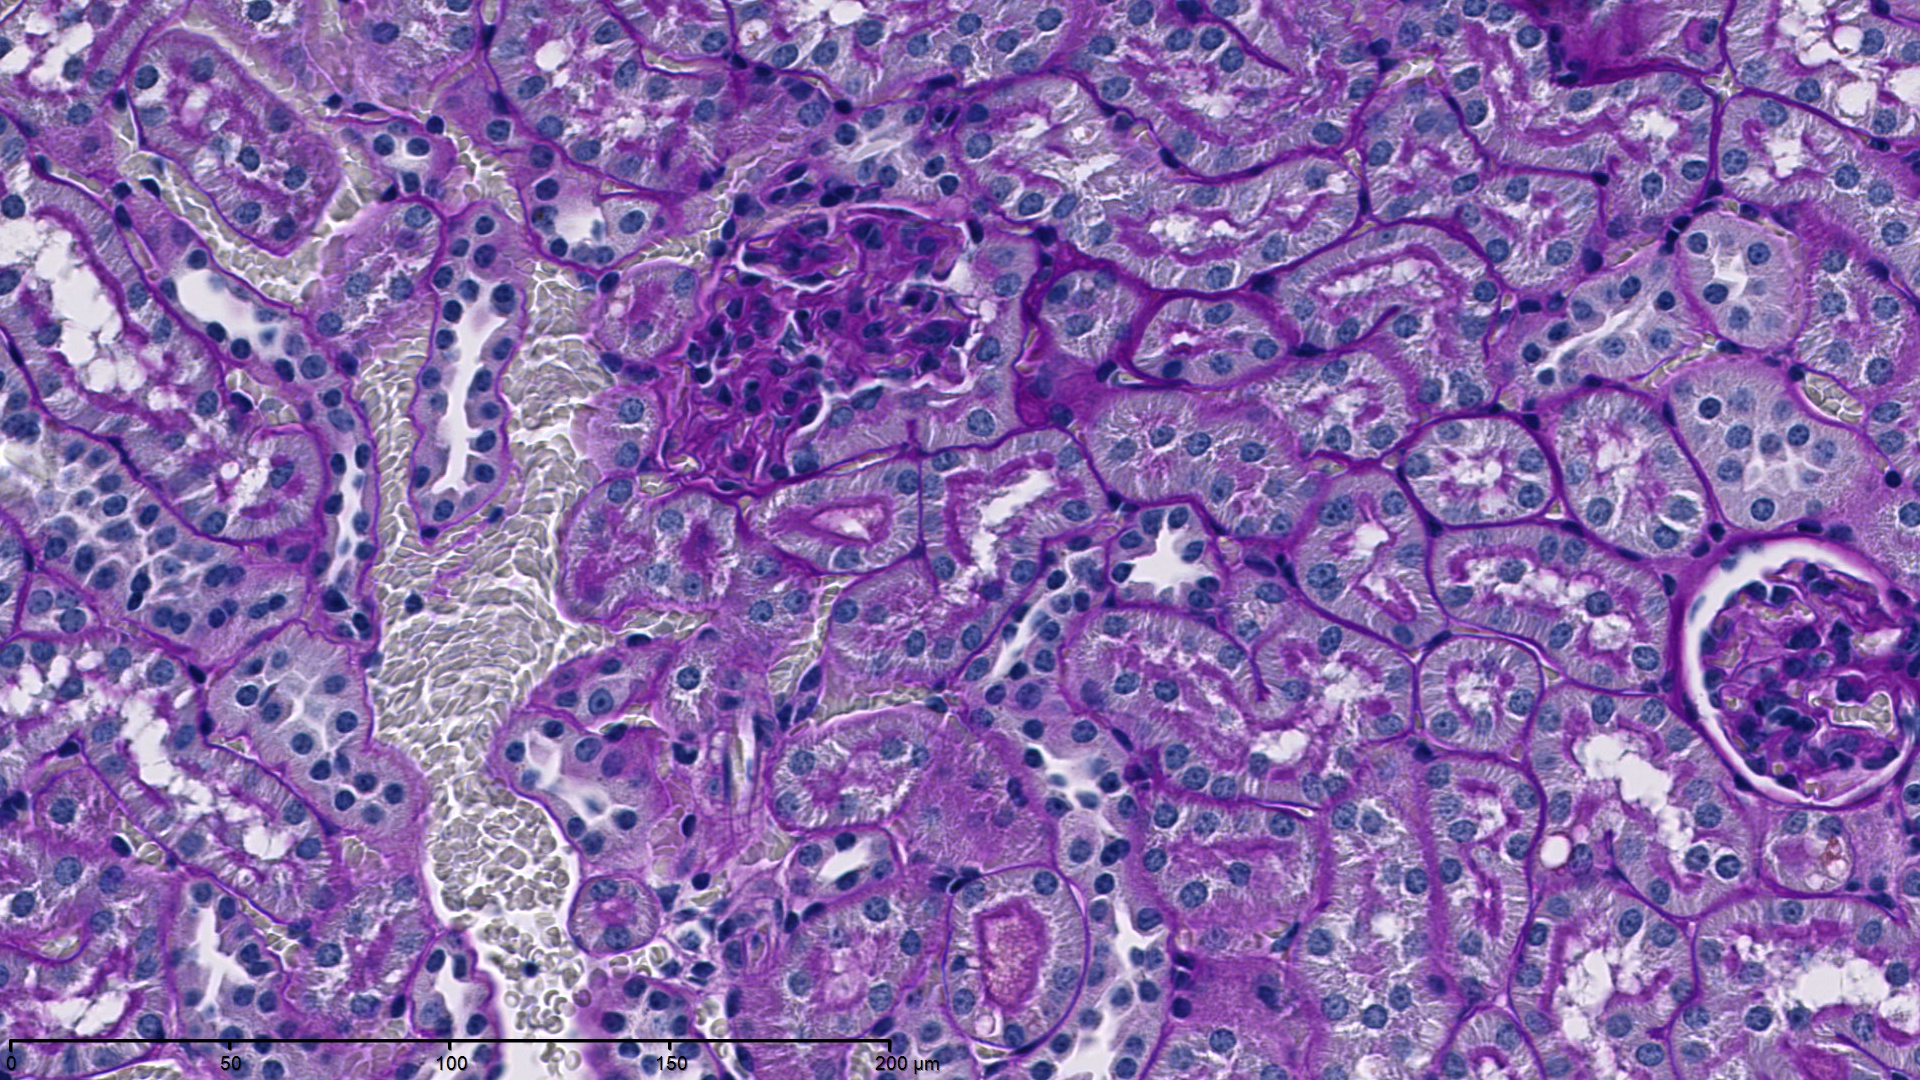Glomeruli: (641, 187, 993, 492), (1673, 527, 1917, 808)
